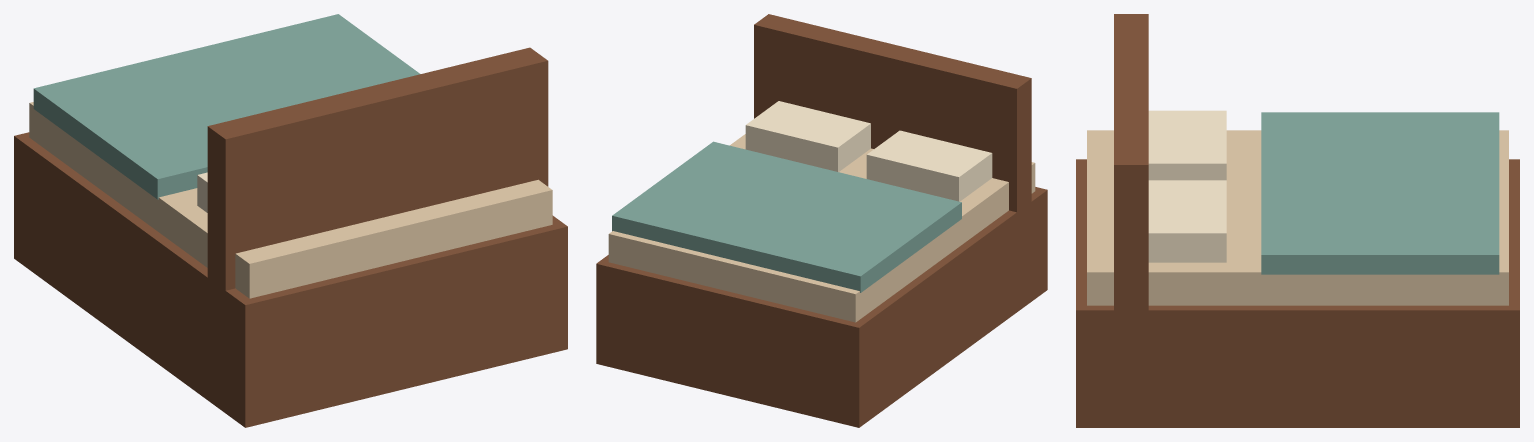
Rendered from bed.glb.
3 renders of one model, left to right at view 1: azimuth 30°, elevation 25°; view 2: azimuth 150°, elevation 25°; view 3: azimuth 270°, elevation 25°, orthographic. The views are drawn at different scales.
Parts seen in each view (by area): view 1: _MeshInstance3D_35, _MeshInstance3D_39, _MeshInstance3D_42, _MeshInstance3D_38; view 2: _MeshInstance3D_35, _MeshInstance3D_42, _MeshInstance3D_39, _MeshInstance3D_38, _MeshInstance3D_40, _MeshInstance3D_41; view 3: _MeshInstance3D_35, _MeshInstance3D_42, _MeshInstance3D_38, _MeshInstance3D_39, _MeshInstance3D_41, _MeshInstance3D_40.
Boxes of the visible parts, box(x1,y1,x2,y2) form: _MeshInstance3D_35: box(14, 132, 567, 427); _MeshInstance3D_39: box(207, 47, 548, 342); _MeshInstance3D_42: box(33, 14, 420, 199); _MeshInstance3D_38: box(29, 102, 552, 298); _MeshInstance3D_35: box(596, 187, 1047, 427); _MeshInstance3D_42: box(612, 141, 961, 292); _MeshInstance3D_39: box(754, 14, 1031, 248); _MeshInstance3D_38: box(608, 134, 1035, 322); _MeshInstance3D_40: box(866, 130, 992, 201); _MeshInstance3D_41: box(745, 101, 870, 171); _MeshInstance3D_35: box(1076, 159, 1519, 427); _MeshInstance3D_42: box(1261, 112, 1499, 274); _MeshInstance3D_38: box(1087, 130, 1508, 305); _MeshInstance3D_39: box(1114, 14, 1148, 310); _MeshInstance3D_41: box(1148, 180, 1226, 262); _MeshInstance3D_40: box(1148, 110, 1226, 180).
Bounding box in the file's own units: 1.65 × 1.34 × 2.05.
